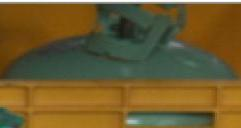cylinder: (1, 0, 241, 128)
